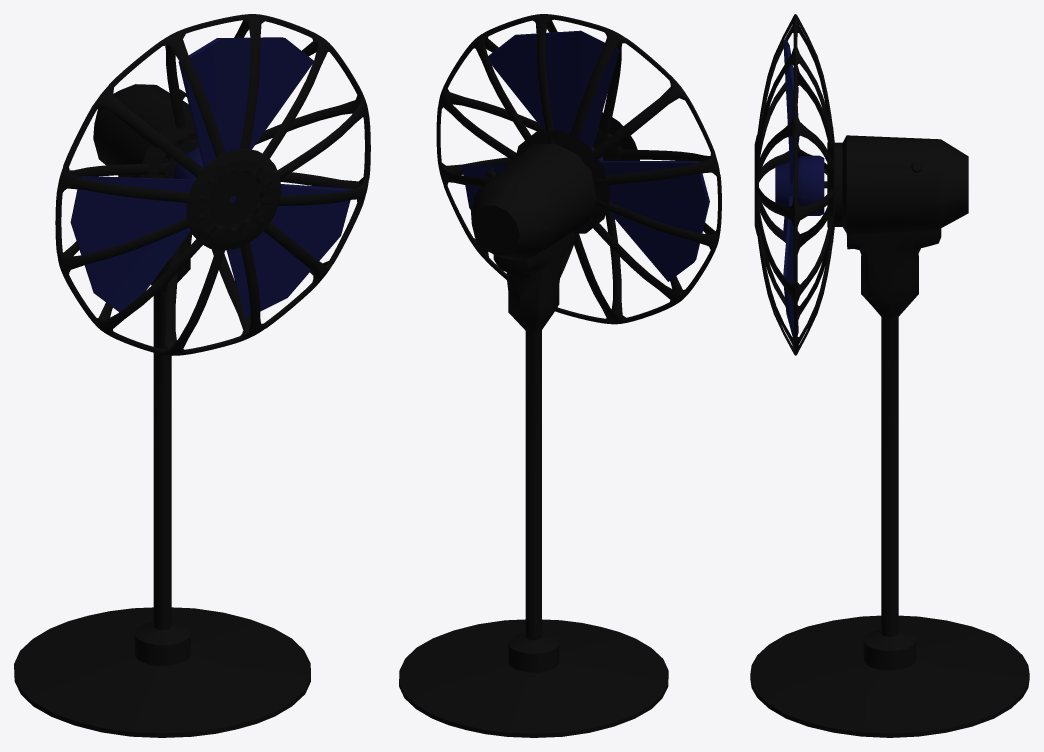
File: Colling Fan.fbx
The picture shows the model from 3 angles, left to right: view 1: azimuth 30°, elevation 25°; view 2: azimuth 150°, elevation 25°; view 3: azimuth 270°, elevation 25°; orthographic projection. The views are drawn at different scales.
Parts seen in each view (by area): view 1: Mesh, Mesh (2); view 2: Mesh, Mesh (2); view 3: Mesh, Mesh (2).
Boxes of the visible parts, x1,y1,x2,y2 form: Mesh: [14, 14, 370, 737]; Mesh (2): [70, 37, 352, 318]; Mesh: [399, 14, 721, 737]; Mesh (2): [462, 30, 709, 281]; Mesh: [750, 14, 1029, 737]; Mesh (2): [775, 39, 824, 336].
Bounding box in the file's own units: 71.41 × 151 × 58.61.
